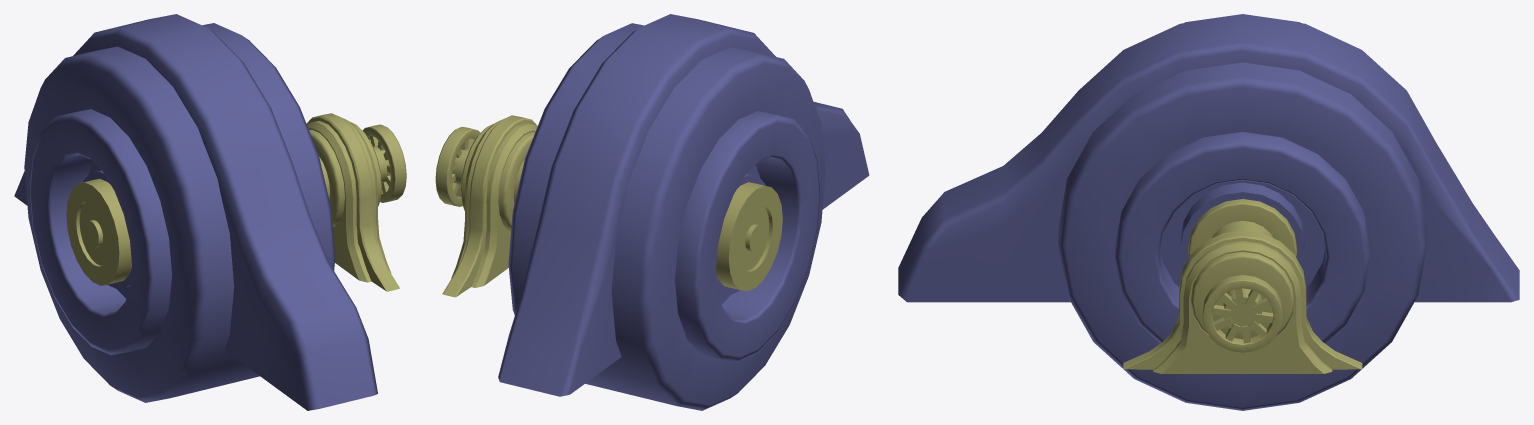
File: Mesh_WorldProp_EngineRound_1.fbx
3 views of the same model, side by side, from view 1: azimuth 30°, elevation 25°; view 2: azimuth 150°, elevation 25°; view 3: azimuth 270°, elevation 25° (orthographic). The views are drawn at different scales.
Parts seen in each view (by area): view 1: Main_Ring, Cover_Large, Inner_Ring, Small_Ring, Cover_Small, Wheel; view 2: Main_Ring, Cover_Large, Inner_Ring, Small_Ring, Cover_Small, Wheel; view 3: Main_Ring, Cover_Large, Small_Ring, Inner_Ring, Cover_Small, Wheel.
Boxes of the visible parts, <box> form: Main_Ring: <box>24,23,335,402</box>; Cover_Large: <box>14,14,377,410</box>; Inner_Ring: <box>66,121,390,285</box>; Small_Ring: <box>306,118,391,282</box>; Cover_Small: <box>306,113,399,291</box>; Wheel: <box>362,124,406,202</box>; Main_Ring: <box>508,23,825,410</box>; Cover_Large: <box>498,14,869,396</box>; Inner_Ring: <box>452,123,782,291</box>; Small_Ring: <box>451,120,537,287</box>; Cover_Small: <box>442,115,537,297</box>; Wheel: <box>435,126,480,206</box>; Main_Ring: <box>1058,14,1427,410</box>; Cover_Large: <box>898,14,1519,302</box>; Small_Ring: <box>1153,241,1332,373</box>; Inner_Ring: <box>1188,199,1297,339</box>; Cover_Small: <box>1123,230,1362,369</box>; Wheel: <box>1202,275,1282,352</box>.
Size of the model in its own units: 556 by 608 by 974.
